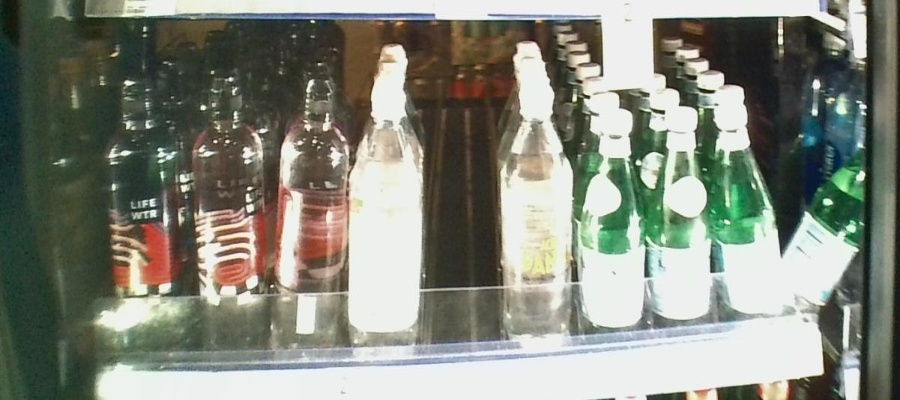bottle: (189, 65, 274, 370), (100, 71, 184, 369), (350, 69, 429, 366), (504, 69, 574, 354), (280, 72, 343, 366), (580, 87, 647, 331), (716, 94, 784, 328), (653, 94, 713, 334)
